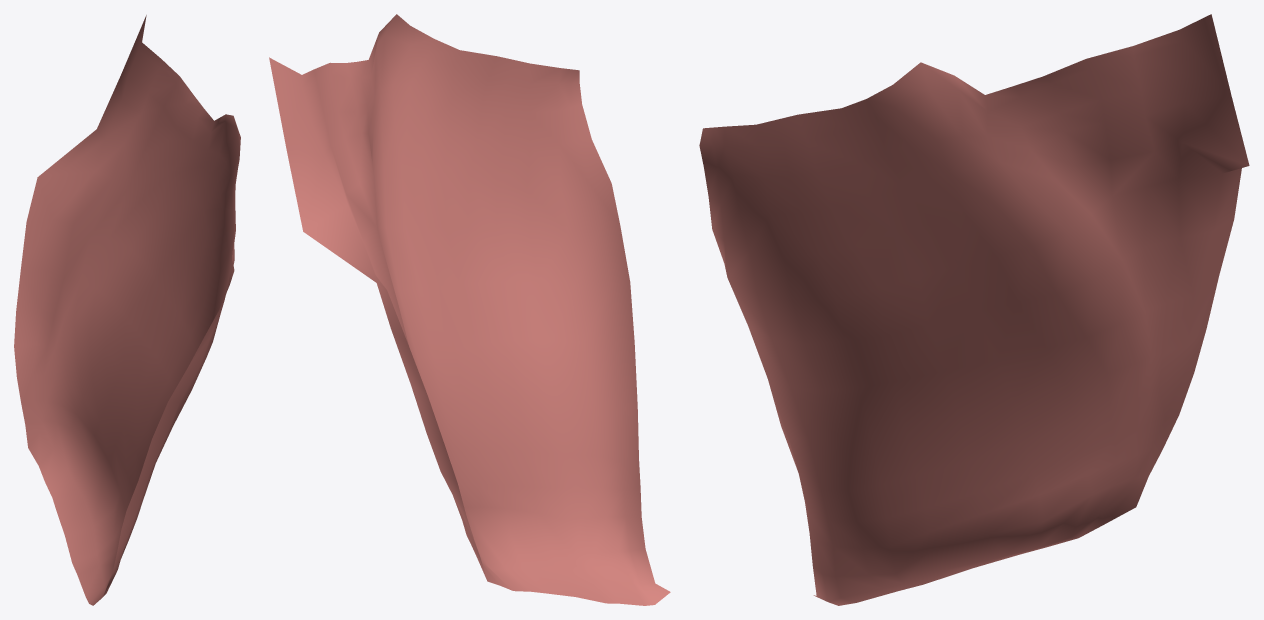
3 views of the same model, side by side, from view 1: azimuth 30°, elevation 25°; view 2: azimuth 150°, elevation 25°; view 3: azimuth 270°, elevation 25° (orthographic). The views are drawn at different scales.
Parts seen in each view (by area): view 1: ZA_380d7215225a5c05; view 2: ZA_380d7215225a5c05; view 3: ZA_380d7215225a5c05.
Part boxes in pixels (left/top/right/bottom): ZA_380d7215225a5c05: left=14, top=15, right=240, bottom=605; ZA_380d7215225a5c05: left=269, top=14, right=670, bottom=605; ZA_380d7215225a5c05: left=699, top=14, right=1249, bottom=605.
Size of the model in its own units: 0.0283 by 0.069 by 0.0473.
